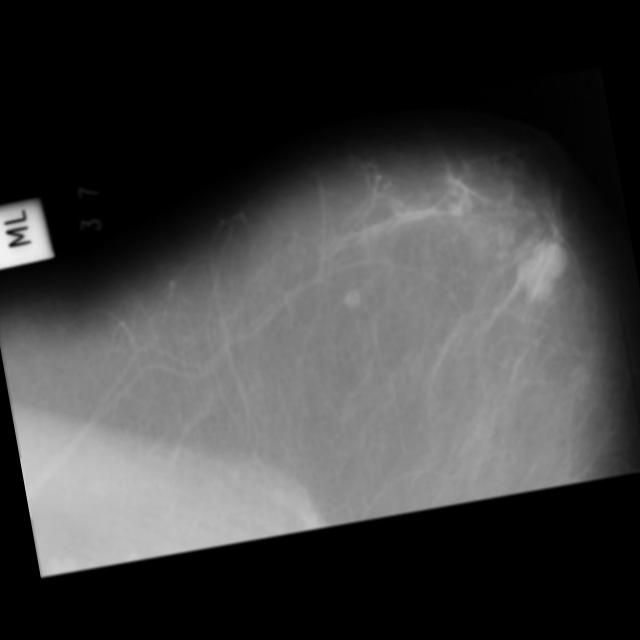CIRC: (528, 235, 572, 279)
